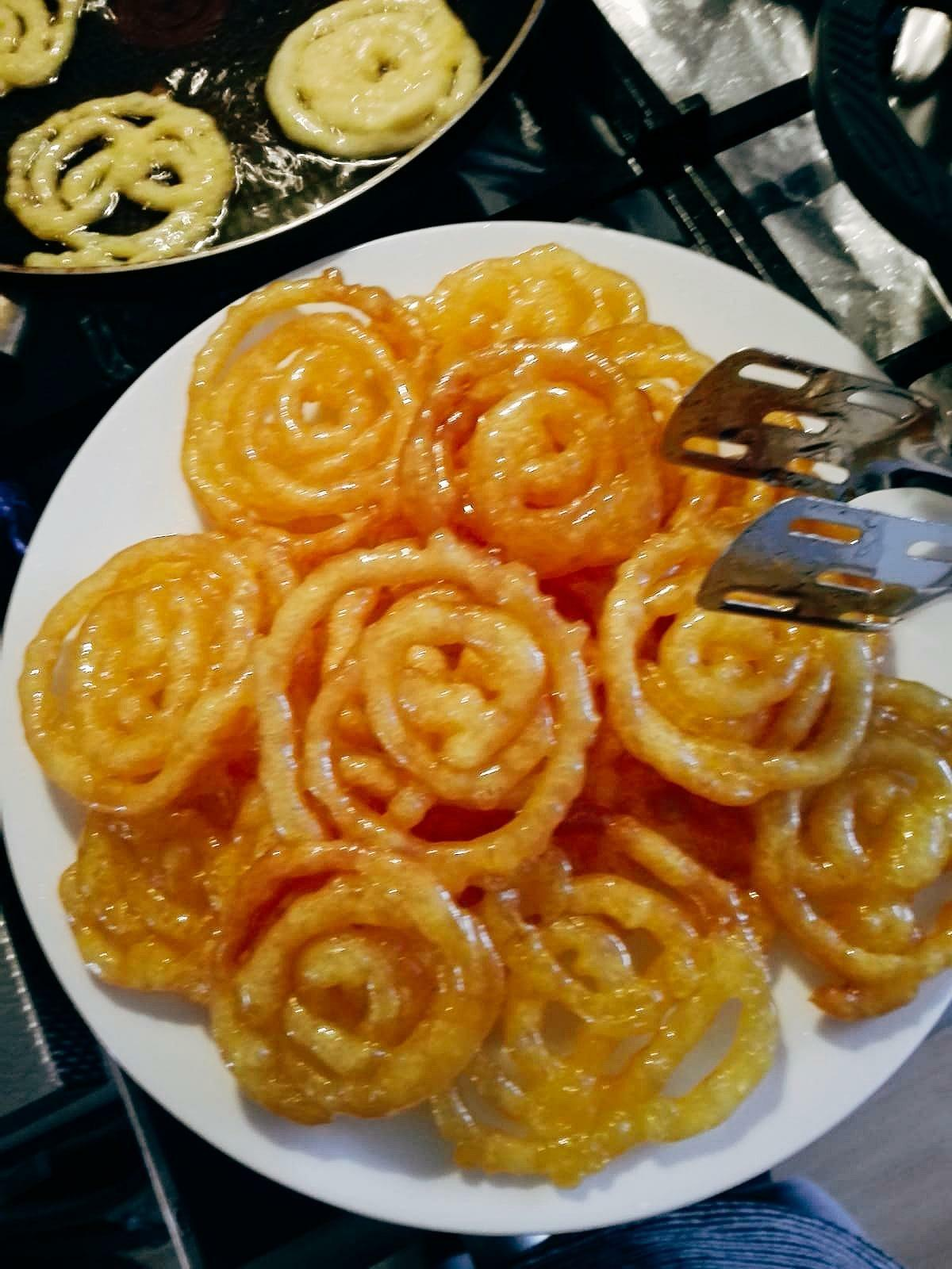Jalebi: (17, 228, 951, 1192)
